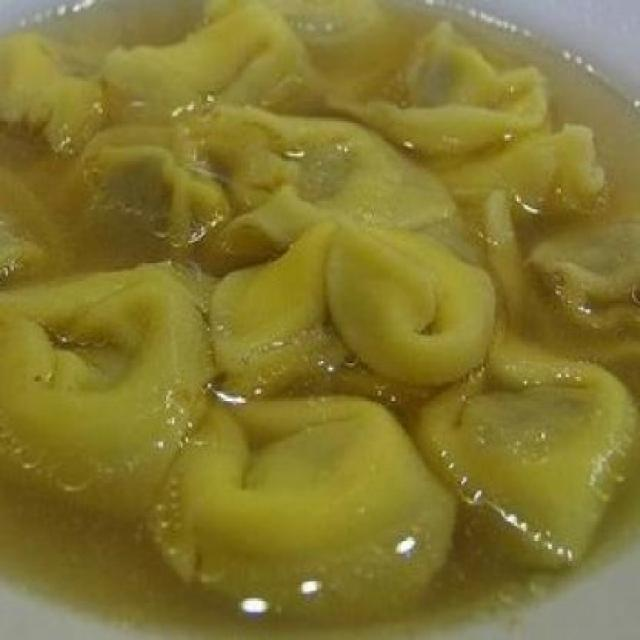Tortellini in broth: (23, 26, 614, 612)
